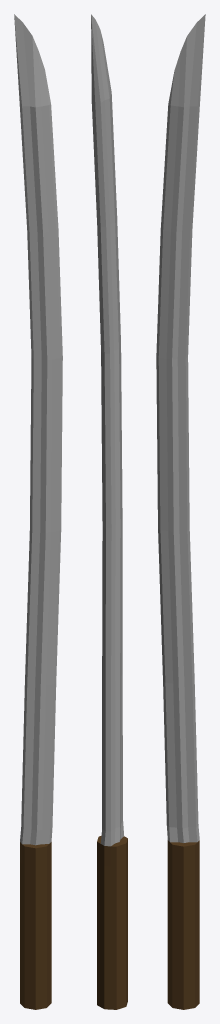
File: Sword.fbx
3 renders of one model, left to right at view 1: azimuth 90°, elevation 25°; view 2: azimuth 150°, elevation 25°; view 3: azimuth 270°, elevation 25°, orthographic.
Parts seen in each view (by area): view 1: Sword; view 2: Sword; view 3: Sword.
Boxes of the visible parts, x1=… form: Sword: x1=14, y1=14, x2=62, y2=1009; Sword: x1=91, y1=14, x2=127, y2=1009; Sword: x1=156, y1=14, x2=205, y2=1009.
Size of the model in its own units: 3.81 by 122 by 5.46.
